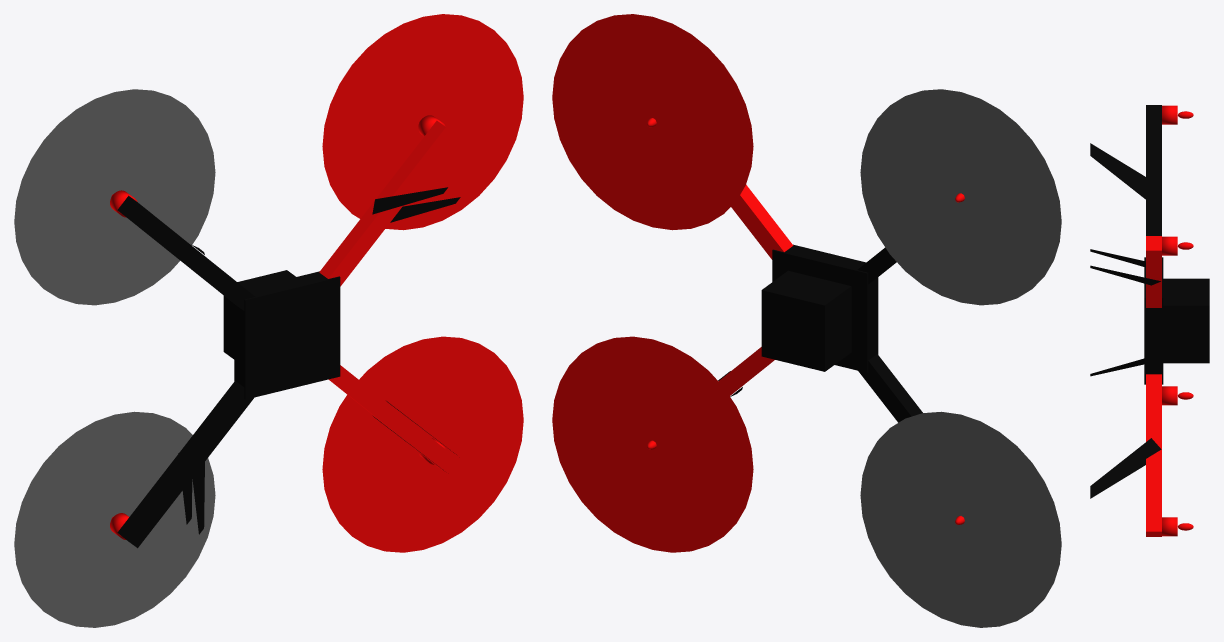
The model's file is 3dr_arducopter_quad_x.obj.
3 views of the same model, side by side, from view 1: azimuth 30°, elevation 25°; view 2: azimuth 150°, elevation 25°; view 3: azimuth 270°, elevation 25° (orthographic). The views are drawn at different scales.
Parts seen in each view (by area): view 1: Prop.003_Circle.000_Gray_Plastic, Prop.001_Circle.002_Gray_Plastic, Prop.004_Circle.000_Gray_Plastic, Prop.002_Circle.002_Gray_Plastic, Base_Cube_Textolite, Arm.003_Cube.002_Black_Metal, Arm_Cube.004_Red_Metal, Arm.002_Cube.002_Black_Metal, Arm.001_Cube.004_Red_Metal, Leg.004_Plane.000_Textolite, Leg.002_Plane.001_Textolite, Body_Cube.001_Textolite; view 2: Prop.002_Circle.002_Gray_Plastic, Prop.004_Circle.000_Gray_Plastic, Prop.003_Circle.000_Gray_Plastic, Prop.001_Circle.002_Gray_Plastic, Body_Cube.001_Textolite, Base_Cube_Textolite, Arm_Cube.004_Red_Metal, Arm.003_Cube.002_Black_Metal, Arm.001_Cube.004_Red_Metal; view 3: Body_Cube.001_Textolite, Arm.001_Cube.004_Red_Metal, Arm.002_Cube.002_Black_Metal, Base_Cube_Textolite, Leg.001_Plane.001_Textolite, Leg.003_Plane.000_Textolite, Arm_Cube.004_Red_Metal, Leg.002_Plane.001_Textolite, Motor.004_Cylinder.001_Red_Metal, Motor.003_Cylinder.001_Red_Metal, Motor.001_Cylinder_Red_Metal, Motor.002_Cylinder_Red_Metal (+1 smaller).
Boxes of the visible parts, box(x1,y1,x2,y2) form: Prop.003_Circle.000_Gray_Plastic: box(14, 89, 215, 305); Prop.001_Circle.002_Gray_Plastic: box(322, 336, 523, 552); Prop.004_Circle.000_Gray_Plastic: box(14, 411, 215, 627); Prop.002_Circle.002_Gray_Plastic: box(322, 14, 523, 230); Base_Cube_Textolite: box(234, 271, 340, 399); Arm.003_Cube.002_Black_Metal: box(117, 381, 253, 548); Arm_Cube.004_Red_Metal: box(319, 120, 456, 286); Arm.002_Cube.002_Black_Metal: box(117, 195, 255, 310); Arm.001_Cube.004_Red_Metal: box(328, 365, 456, 472); Leg.004_Plane.000_Textolite: box(178, 446, 204, 534); Leg.002_Plane.001_Textolite: box(372, 187, 460, 222); Body_Cube.001_Textolite: box(223, 270, 295, 359); Prop.002_Circle.002_Gray_Plastic: box(552, 14, 753, 230); Prop.004_Circle.000_Gray_Plastic: box(860, 411, 1061, 627); Prop.003_Circle.000_Gray_Plastic: box(860, 89, 1061, 305); Prop.001_Circle.002_Gray_Plastic: box(552, 336, 753, 552); Body_Cube.001_Textolite: box(761, 270, 851, 371); Base_Cube_Textolite: box(772, 244, 878, 372); Arm_Cube.004_Red_Metal: box(731, 184, 793, 259); Arm.003_Cube.002_Black_Metal: box(858, 354, 922, 422); Arm.001_Cube.004_Red_Metal: box(718, 347, 774, 395); Body_Cube.001_Textolite: box(1163, 278, 1209, 363); Arm.001_Cube.004_Red_Metal: box(1146, 374, 1161, 536); Arm.002_Cube.002_Black_Metal: box(1146, 105, 1161, 235); Base_Cube_Textolite: box(1144, 257, 1163, 384); Leg.001_Plane.001_Textolite: box(1090, 438, 1161, 498); Leg.003_Plane.000_Textolite: box(1090, 143, 1161, 199); Arm_Cube.004_Red_Metal: box(1146, 236, 1161, 307); Leg.002_Plane.001_Textolite: box(1090, 249, 1160, 285); Motor.004_Cylinder.001_Red_Metal: box(1162, 386, 1177, 405); Motor.003_Cylinder.001_Red_Metal: box(1162, 105, 1177, 124); Motor.001_Cylinder_Red_Metal: box(1162, 517, 1177, 536); Motor.002_Cylinder_Red_Metal: box(1162, 236, 1177, 255).
Size of the model in its own units: 0.6429 by 0.6429 by 0.1497.
